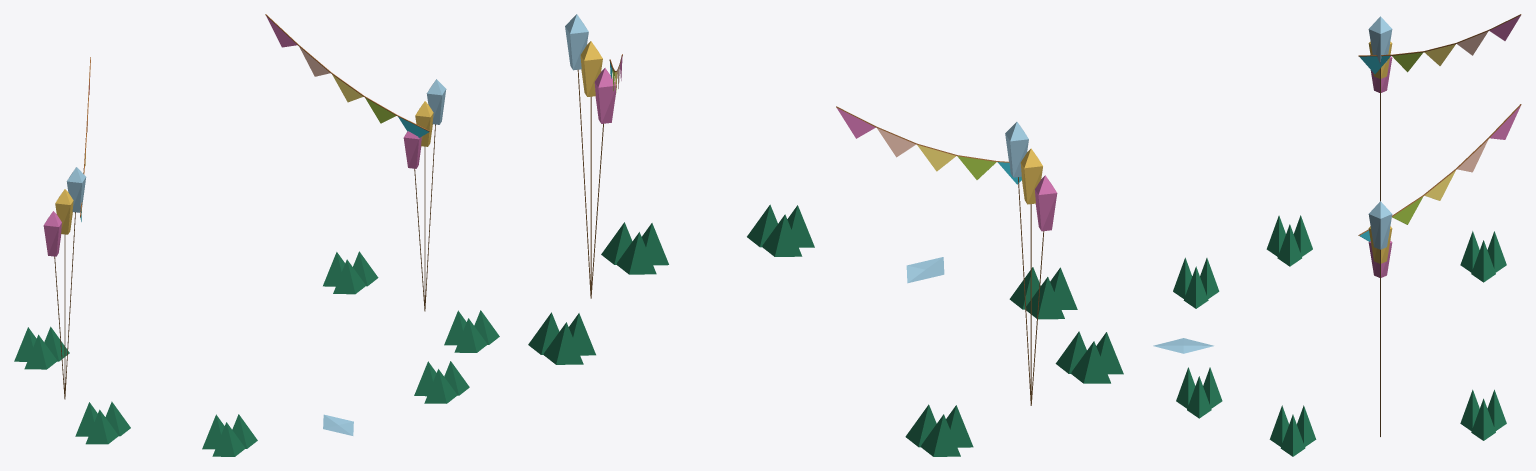
Rendered from decoration.glb.
The picture shows the model from 3 angles, left to right: view 1: azimuth 30°, elevation 25°; view 2: azimuth 150°, elevation 25°; view 3: azimuth 270°, elevation 25°; orthographic projection. The views are drawn at different scales.
Parts seen in each view (by area): view 1: 06_R2B_Faire_Garden, 06_R2B_Faire_BalloonsAndPaperFloor; view 2: 06_R2B_Faire_Garden, 06_R2B_Faire_BalloonsAndPaperFloor; view 3: 06_R2B_Faire_Garden, 06_R2B_Faire_BalloonsAndPaperFloor.
Part boxes in pixels (box(x1,y1,x2,y2)): 06_R2B_Faire_Garden: box(14, 251, 499, 456); 06_R2B_Faire_BalloonsAndPaperFloor: box(43, 14, 446, 435); 06_R2B_Faire_Garden: box(528, 204, 1123, 456); 06_R2B_Faire_BalloonsAndPaperFloor: box(565, 14, 1057, 405); 06_R2B_Faire_Garden: box(1173, 215, 1506, 456); 06_R2B_Faire_BalloonsAndPaperFloor: box(1153, 14, 1521, 436).
Bounding box in the file's own units: 1.61 × 1 × 1.16.
